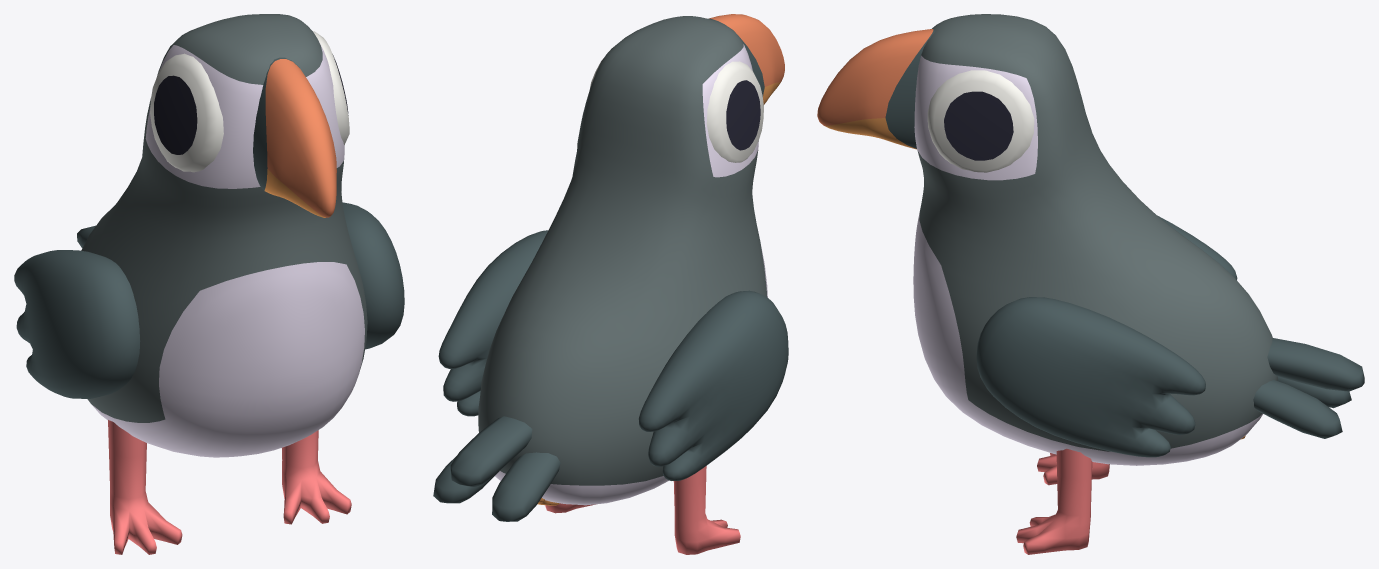
The model's file is Puffin.glb.
The picture shows the model from 3 angles, left to right: view 1: azimuth 30°, elevation 25°; view 2: azimuth 150°, elevation 25°; view 3: azimuth 270°, elevation 25°; orthographic projection. The views are drawn at different scales.
Parts seen in each view (by area): view 1: Puffin; view 2: Puffin; view 3: Puffin.
Boxes of the visible parts, x1,y1,x2,y2 form: Puffin: (14, 14, 404, 554); Puffin: (433, 14, 788, 554); Puffin: (817, 14, 1364, 554).
Size of the model in its own units: 0.9782 by 1.52 by 1.58.
Materials: 1 (1 with a texture image).
